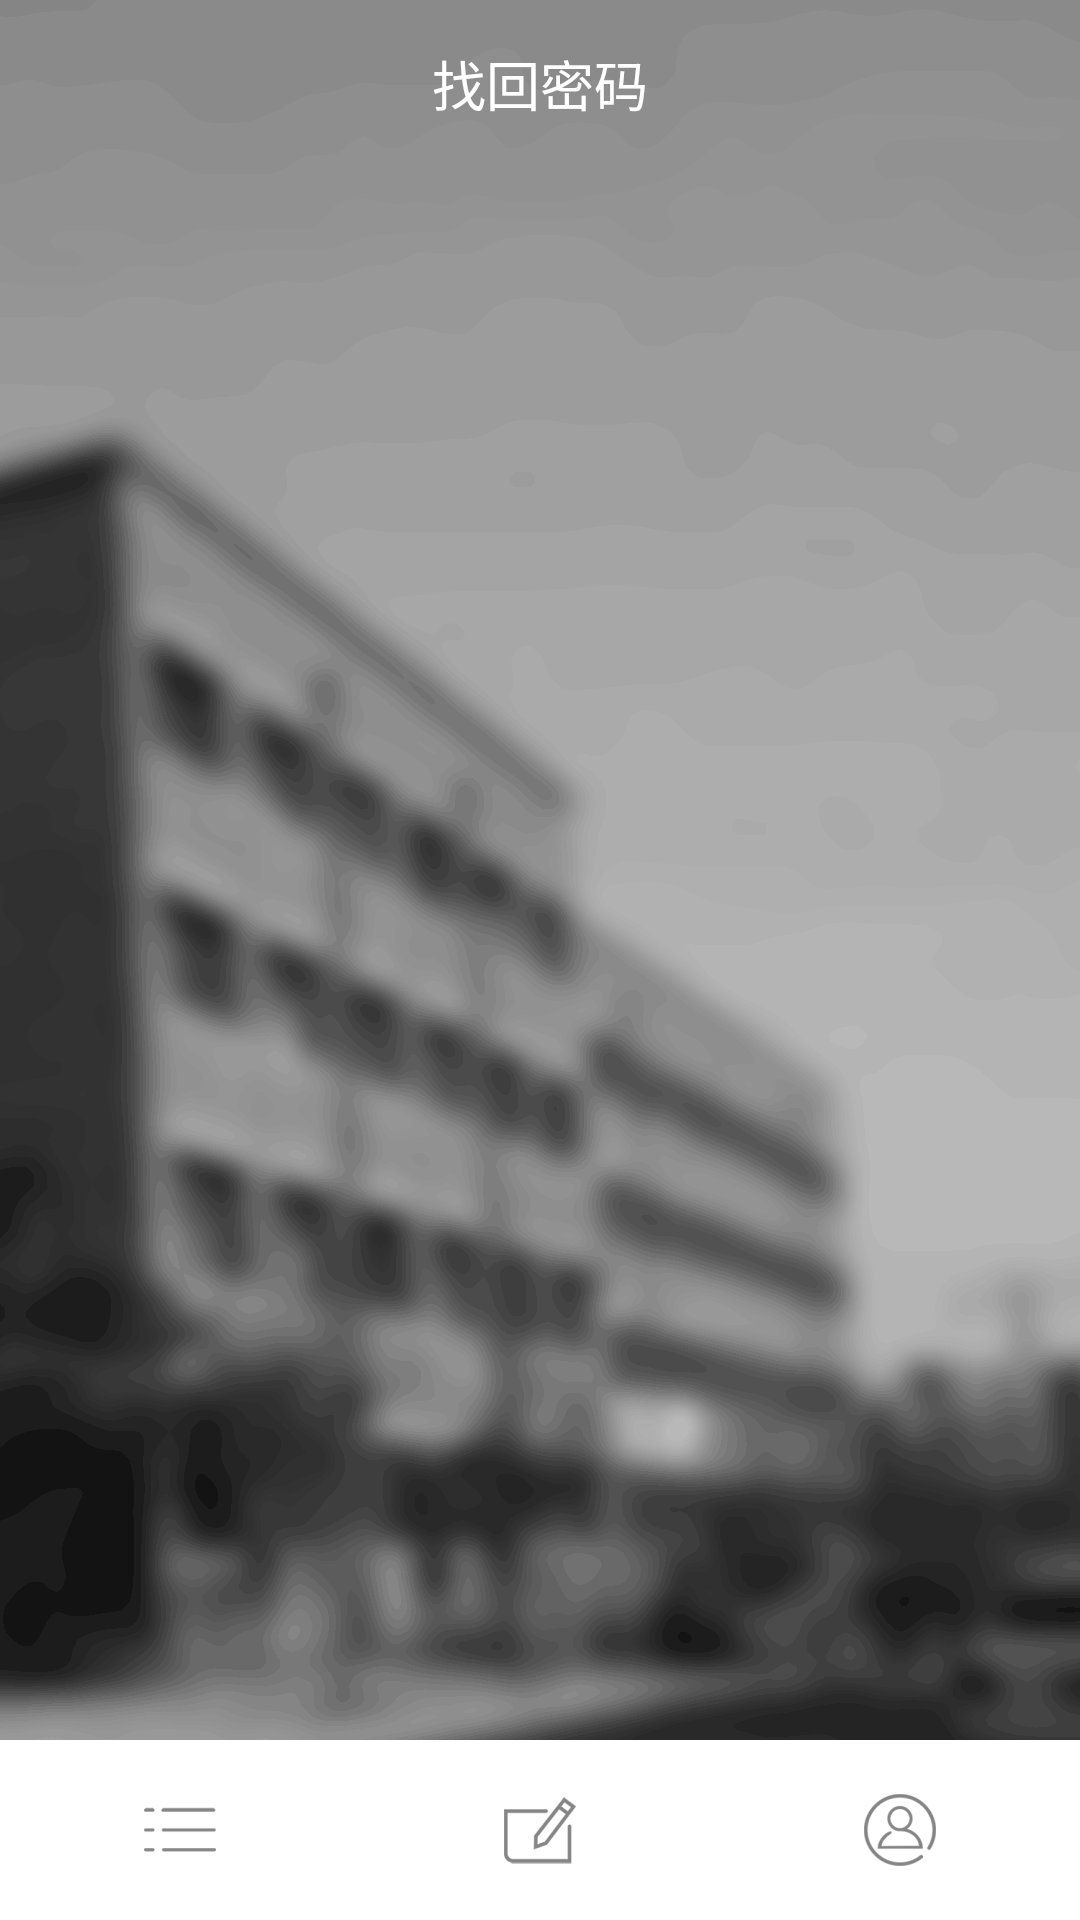

Named icons in this screenshot (1080 x 1920) and their bounding boxes, (x1, y1, x2, y2):
gengduo: (144, 1808, 216, 1852)
qiandao: (504, 1797, 576, 1864)
yonghu: (864, 1794, 936, 1866)
